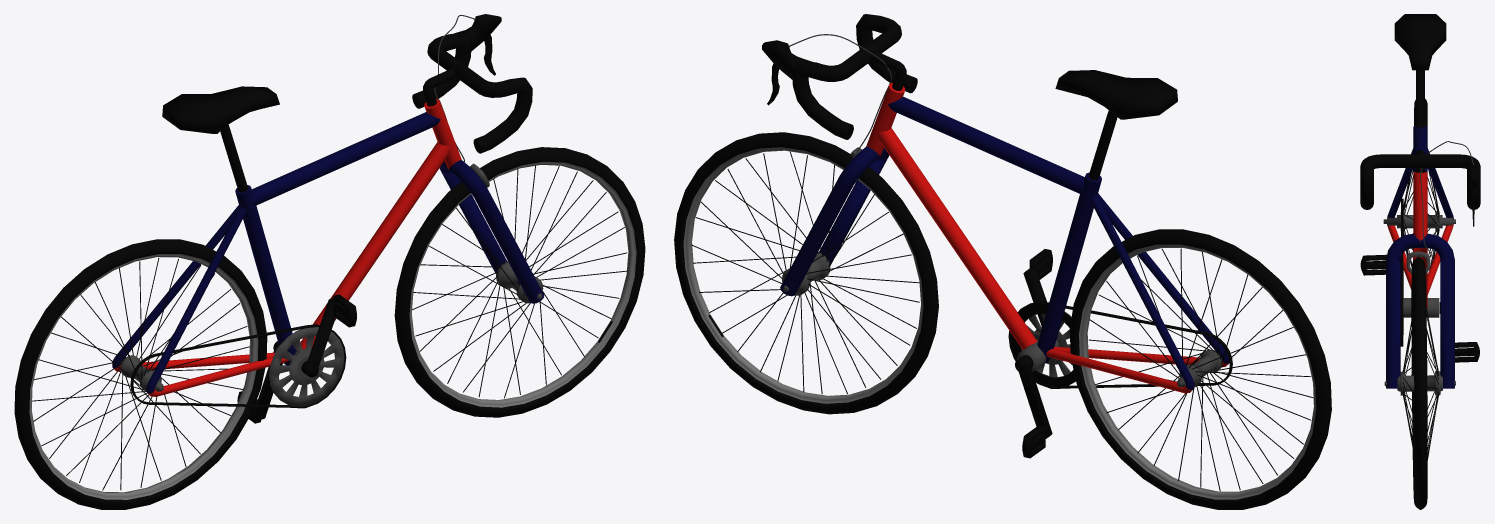
The model's file is RoadBikeV4.fbx.
3 views of the same model, side by side, from view 1: azimuth 30°, elevation 25°; view 2: azimuth 150°, elevation 25°; view 3: azimuth 270°, elevation 25° (orthographic). The views are drawn at different scales.
Visible parts, largest first — view 1: BikeFrame, RearWheel, FrontWheel, Handle, Pedalier; view 2: BikeFrame, RearWheel, FrontWheel, Handle, Pedalier; view 3: Handle, BikeFrame, FrontWheel, RearWheel, PEdalLeftR, PEdalLeft, Pedalier.
Boxes of the visible parts, x1,y1,x2,y2 form: BikeFrame: (112, 86, 489, 408); RearWheel: (14, 239, 267, 509); FrontWheel: (394, 147, 645, 417); Handle: (412, 14, 544, 303); Pedalier: (253, 298, 335, 419); BikeFrame: (850, 70, 1232, 393); RearWheel: (1069, 229, 1331, 509); FrontWheel: (674, 132, 938, 414); Handle: (762, 14, 917, 296); Pedalier: (1015, 268, 1059, 438); Handle: (1360, 141, 1480, 388); BikeFrame: (1387, 14, 1453, 346); FrontWheel: (1384, 257, 1455, 509); RearWheel: (1383, 99, 1455, 267); PEdalLeftR: (1360, 254, 1386, 275); PEdalLeft: (1455, 342, 1479, 362); Pedalier: (1403, 298, 1440, 317).
Bounding box in the file's own units: 463 × 272 × 87.88.
